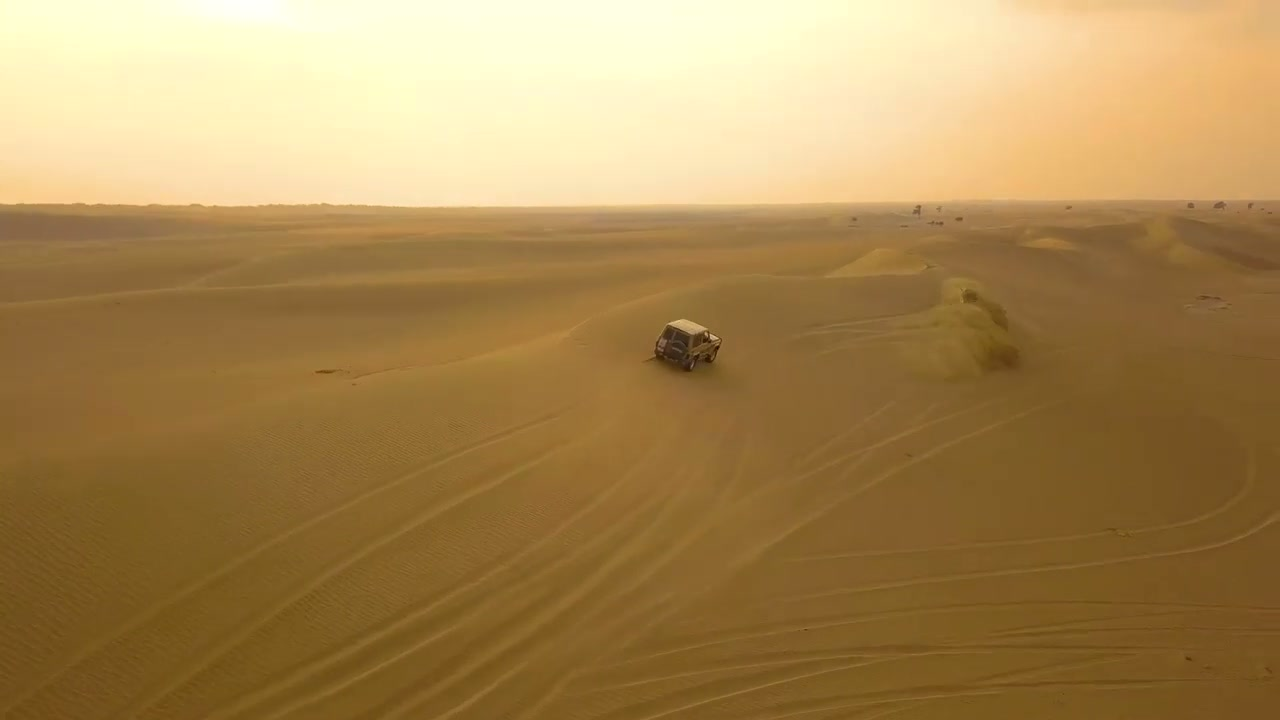vehicle_track: (611, 406, 1279, 709), (0, 398, 609, 719), (255, 424, 739, 715)
